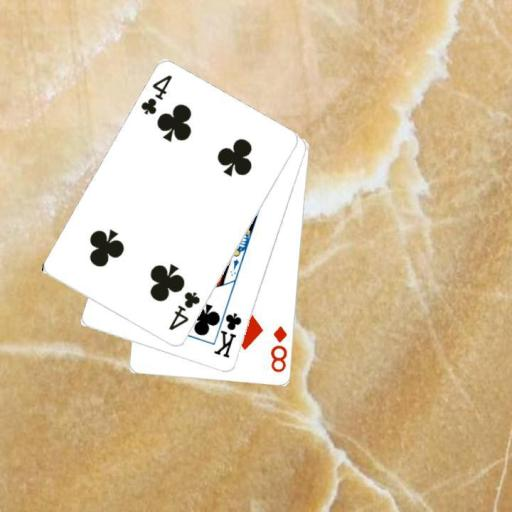4C: (137, 72, 174, 117), (166, 289, 202, 332)
8D: (267, 323, 289, 374)
KC: (209, 302, 244, 360)
